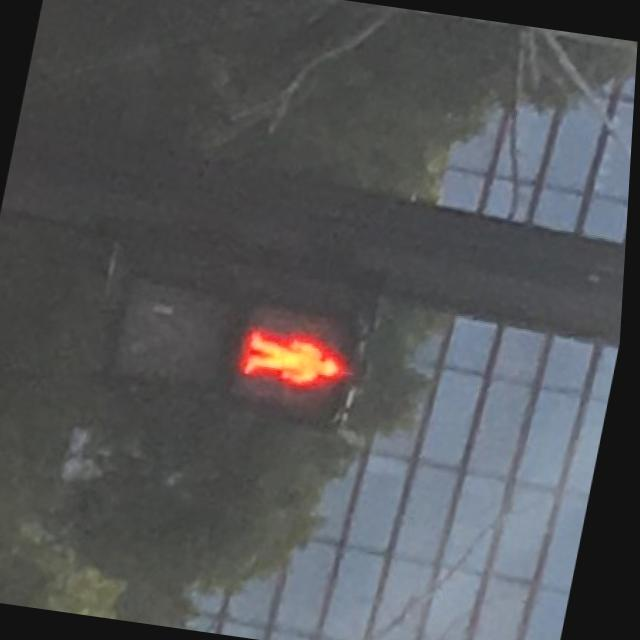red_light: (234, 300, 370, 426)
